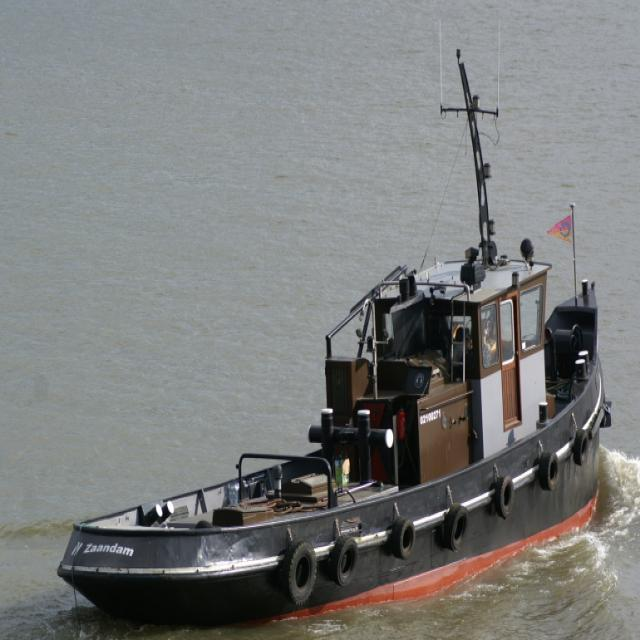tugboat: (53, 48, 618, 639)
